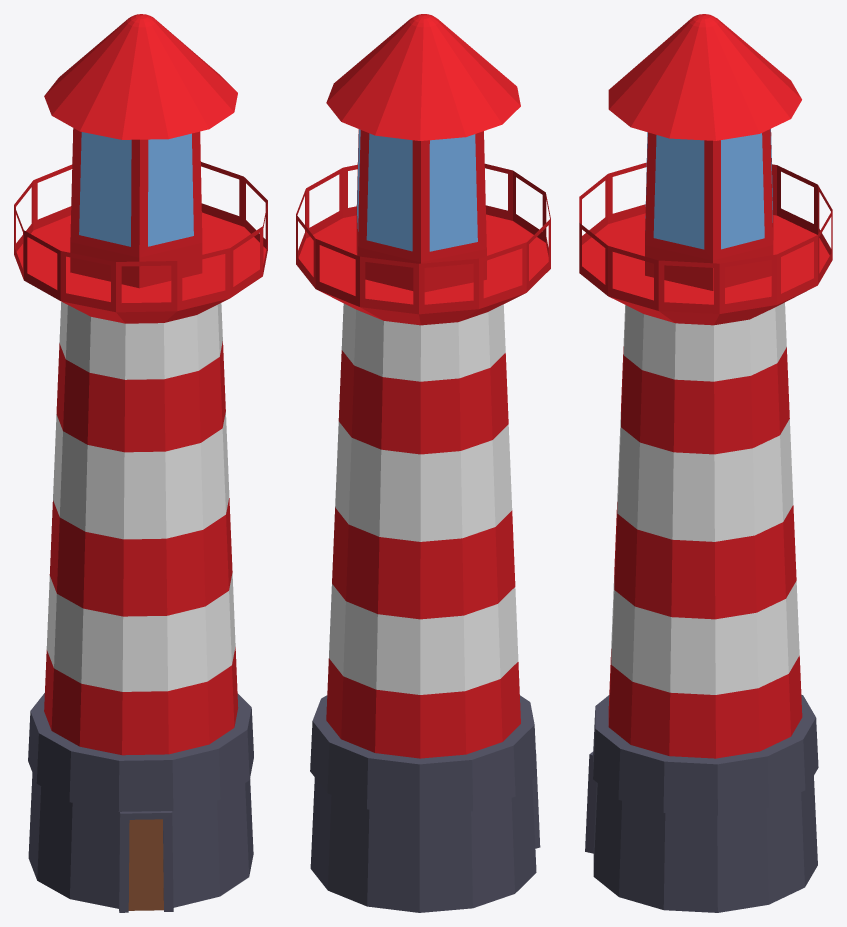
File: lighthouse.fbx
3 renders of one model, left to right at view 1: azimuth 30°, elevation 25°; view 2: azimuth 150°, elevation 25°; view 3: azimuth 270°, elevation 25°, orthographic.
Visible parts, largest first — view 1: lighthouse; view 2: lighthouse; view 3: lighthouse.
Part boxes in pixels (x1=…): lighthouse: x1=14, y1=14, x2=267, y2=912; lighthouse: x1=296, y1=14, x2=550, y2=912; lighthouse: x1=579, y1=14, x2=832, y2=912.
Size of the model in its own units: 1367 by 5023 by 1357.
Materials: 6 (2 with a texture image).
